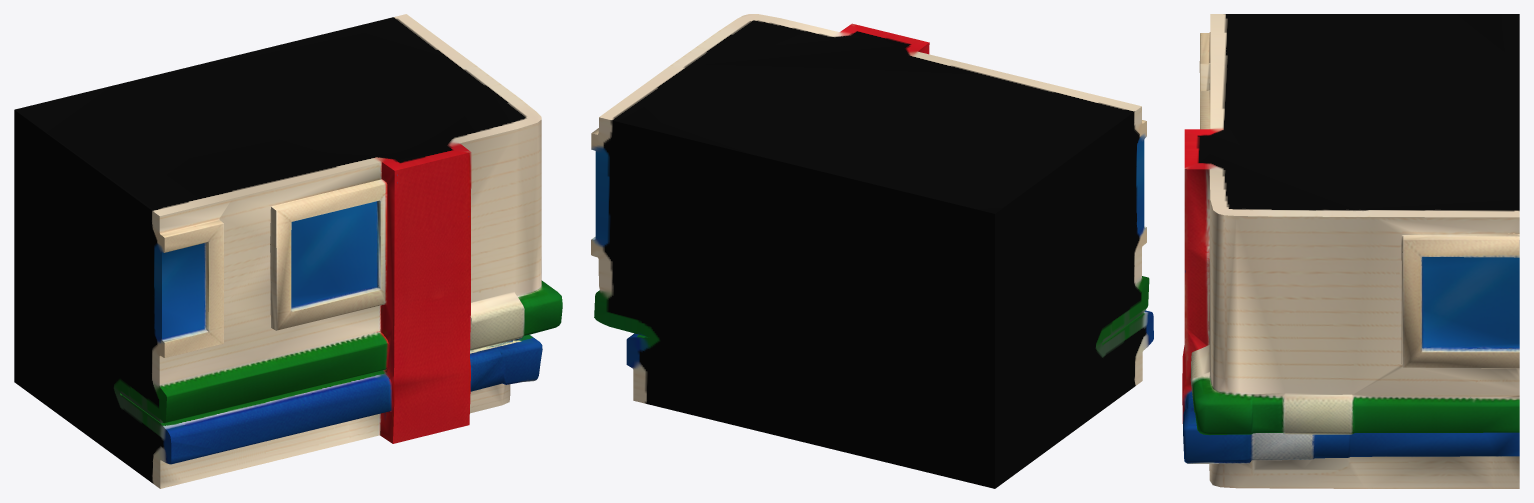
File: 6-upper-walls-front-right.fbx
3 views of the same model, side by side, from view 1: azimuth 30°, elevation 25°; view 2: azimuth 150°, elevation 25°; view 3: azimuth 270°, elevation 25° (orthographic). The views are drawn at different scales.
Visible parts, largest first — view 1: upper-walls-front-right; view 2: upper-walls-front-right; view 3: upper-walls-front-right.
Boxes of the visible parts, <box> form: upper-walls-front-right: <box>14,14,562,488</box>; upper-walls-front-right: <box>591,14,1153,488</box>; upper-walls-front-right: <box>1182,14,1519,488</box>.
Bounding box in the file's own units: 8734 × 5681 × 6001.
1 material, 1 textured.
